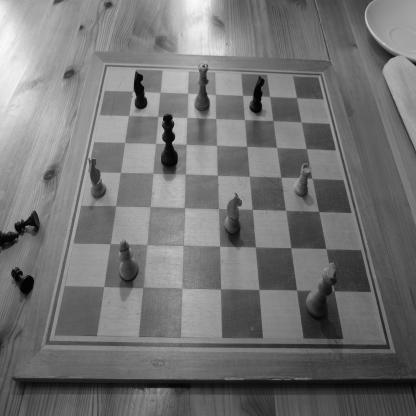black-king: (161, 113, 178, 168)
black-knight: (249, 76, 265, 113), (134, 71, 148, 109)
black-pawn: (10, 266, 35, 295), (14, 210, 40, 232)
white-bishop: (118, 238, 139, 282)
white-king: (305, 262, 338, 319)
white-knight: (224, 192, 243, 235), (88, 157, 107, 199)
white-queen: (194, 63, 210, 112)
white-rook: (293, 162, 312, 198)
